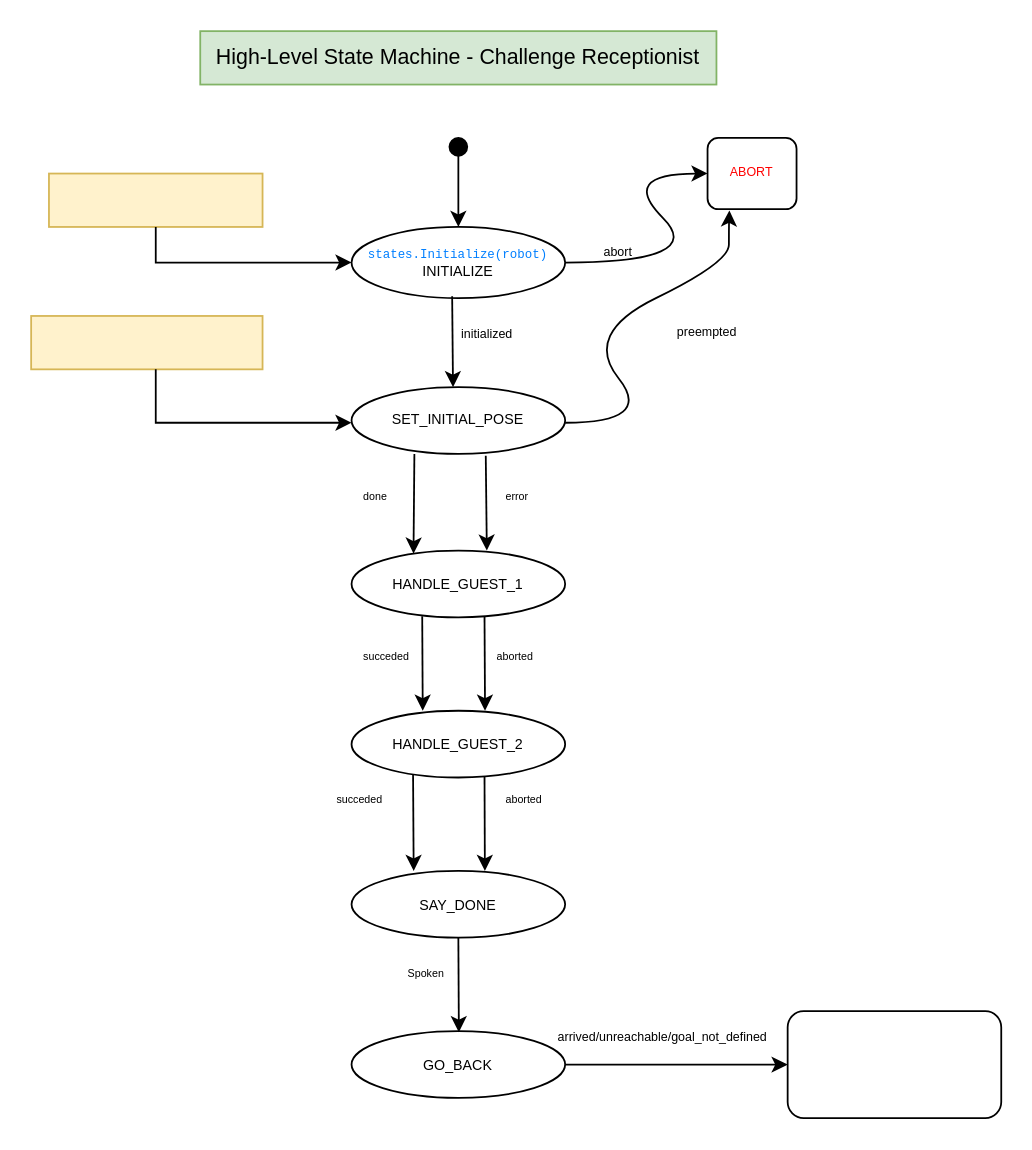
The diagram is 1032 pixels wide and 1150 high, and some of its shapes have lost their labels. The centre of each missing label's shape, as x and y in pixels:
Load Challenge Knowledge: the point at 146,341
Load Host Knowledge: the point at 155,199
SUCCEEDED: the point at 893,1063
